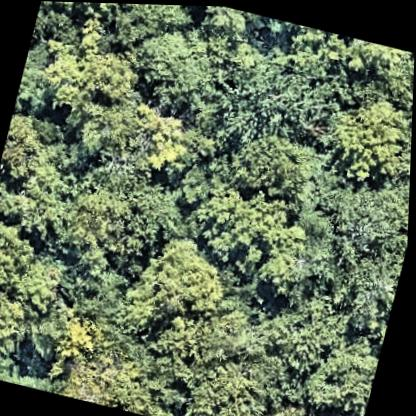tree-top: (302, 177, 411, 326), (210, 43, 342, 145), (47, 168, 168, 278), (182, 177, 309, 279), (69, 85, 199, 181), (131, 229, 237, 333), (229, 118, 340, 205), (40, 29, 146, 118), (128, 21, 224, 118), (321, 83, 414, 181), (322, 170, 411, 270), (263, 281, 354, 367), (305, 327, 381, 416), (0, 107, 74, 196), (273, 18, 366, 82), (110, 354, 191, 416), (189, 355, 268, 416), (102, 2, 184, 52), (365, 41, 415, 122), (14, 34, 57, 113), (188, 4, 265, 47), (0, 280, 36, 361), (242, 397, 361, 416), (40, 1, 127, 23), (0, 345, 30, 385)
